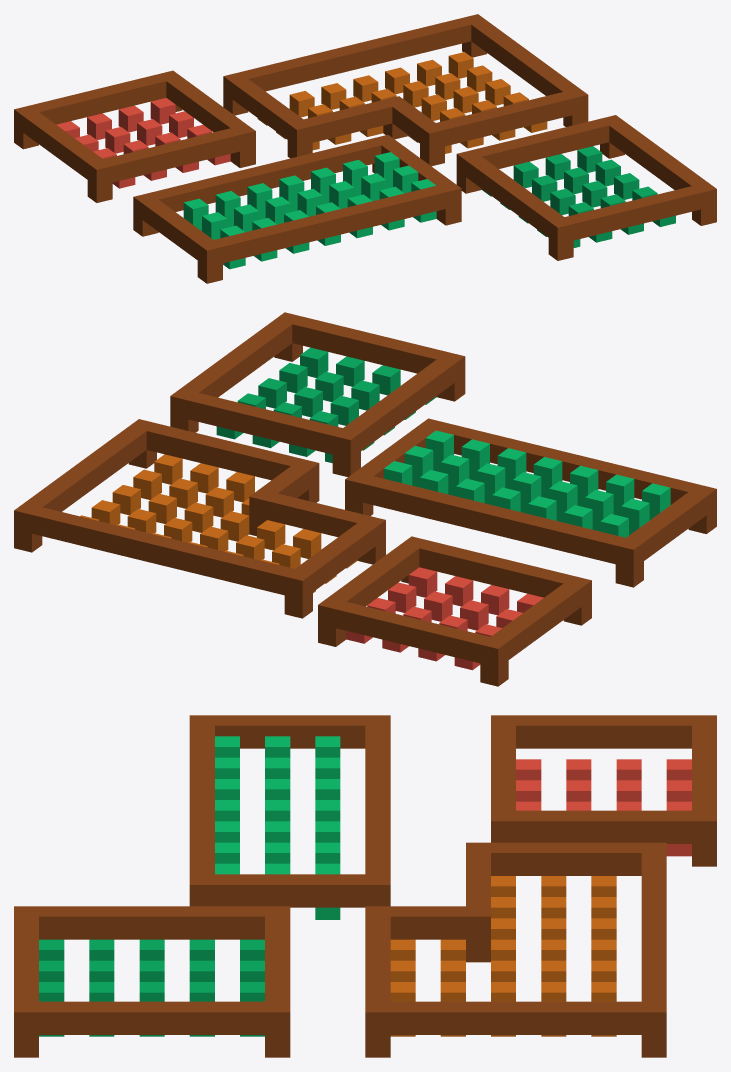
The model's file is Farms.obj.
3 renders of one model, top to bottom at view 1: azimuth 30°, elevation 25°; view 2: azimuth 150°, elevation 25°; view 3: azimuth 270°, elevation 25°, orthographic. The views are drawn at different scales.
Size of the model in its own units: 2.8 by 0.2 by 2.8.
1 material, 1 textured.
